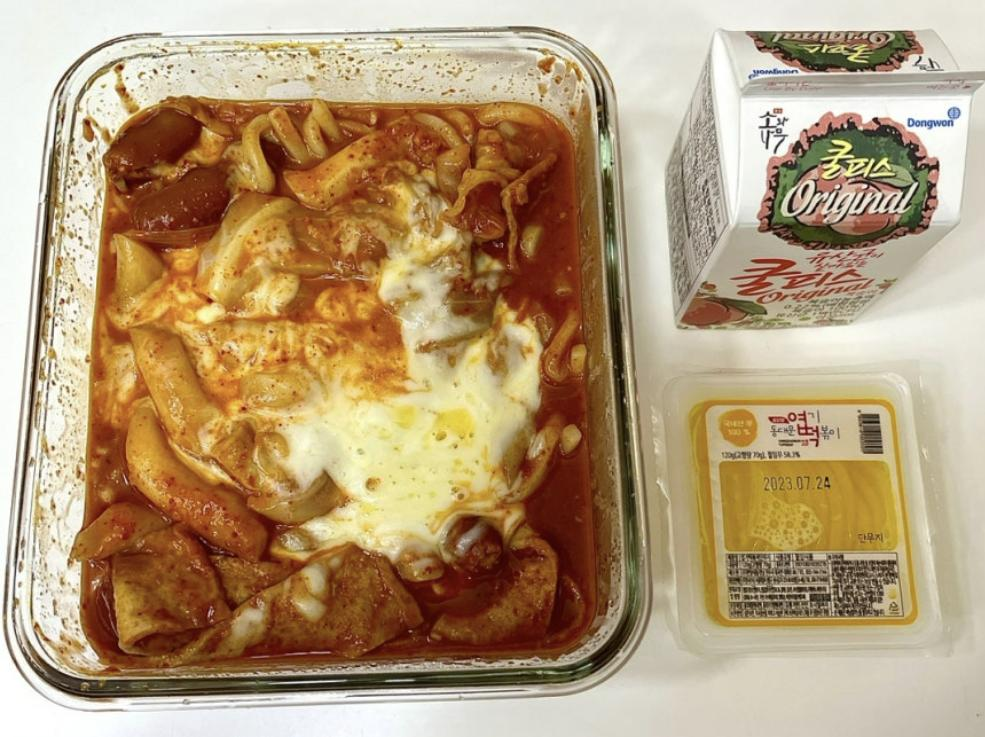Lunch Box: (0, 28, 650, 707), (664, 370, 941, 653)
